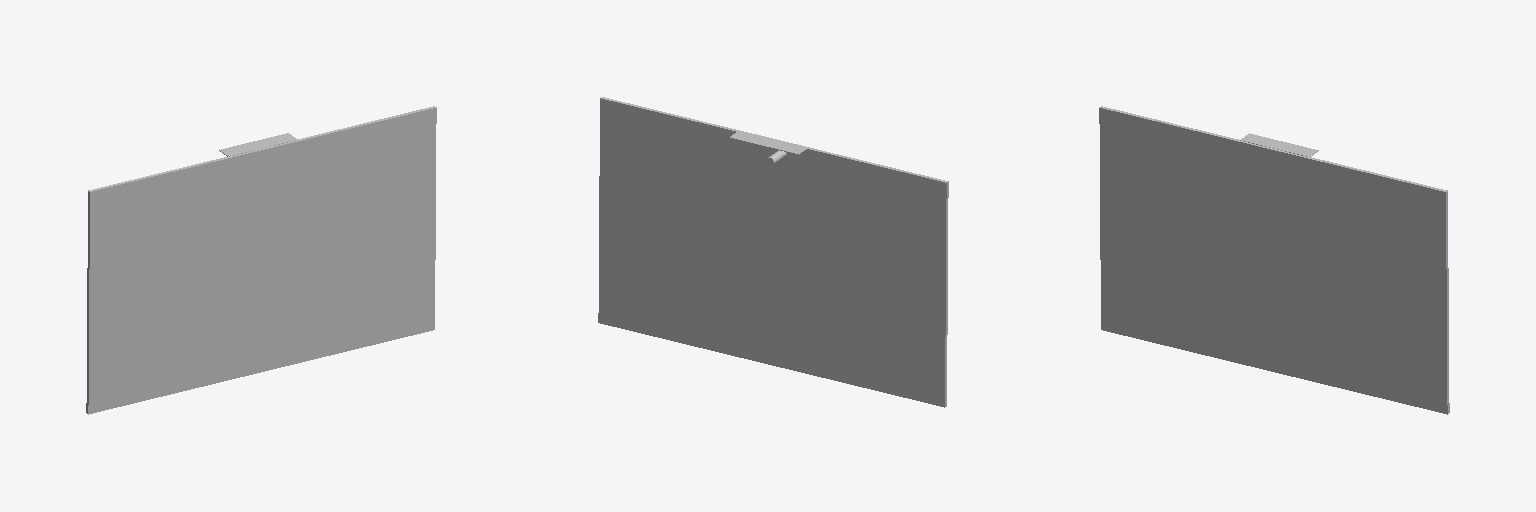
Rendered from floor1.obj.
3 views of the same model, side by side, from view 1: azimuth 30°, elevation 25°; view 2: azimuth 150°, elevation 25°; view 3: azimuth 330°, elevation 25° (orthographic).
Parts seen in each view (by area): view 1: Cube, Cube.001; view 2: Cube, Cube.001; view 3: Cube, Cube.001.
Part boxes in pixels (left/top/right/bottom): Cube: left=86, top=106, right=436, bottom=414; Cube.001: left=219, top=133, right=296, bottom=156; Cube: left=598, top=97, right=948, bottom=407; Cube.001: left=729, top=131, right=806, bottom=154; Cube: left=1099, top=106, right=1449, bottom=414; Cube.001: left=1240, top=133, right=1318, bottom=156.
Size of the model in its own units: 200 by 123 by 14.66.